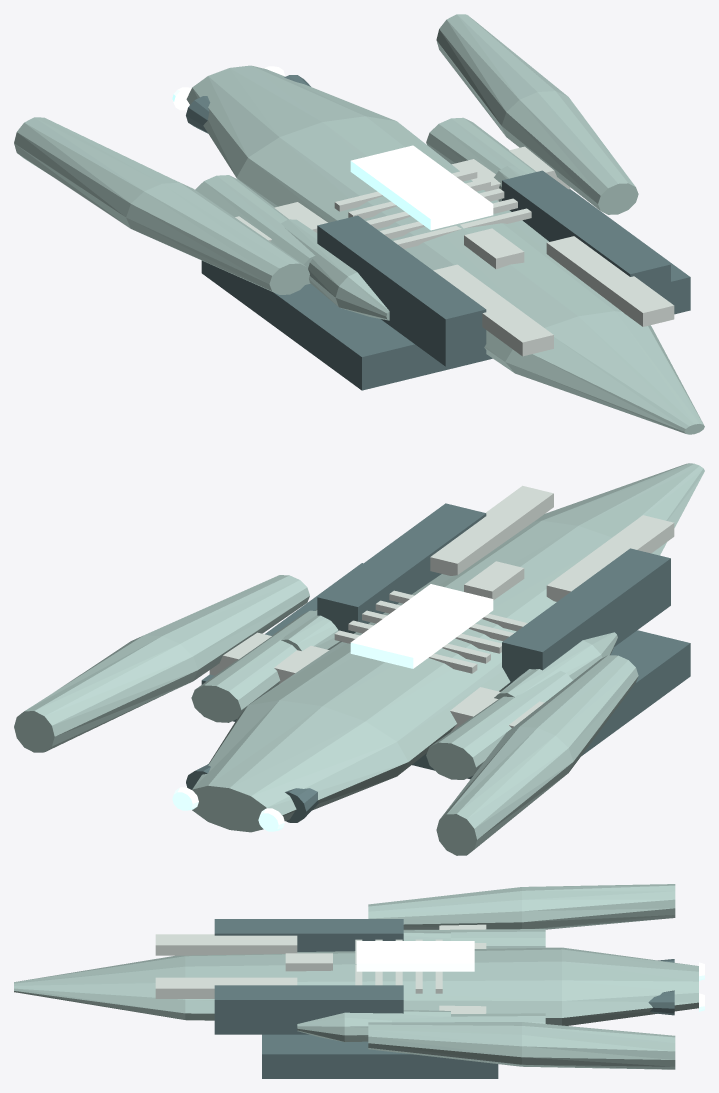
3 views of the same model, one above another, from view 1: azimuth 30°, elevation 25°; view 2: azimuth 150°, elevation 25°; view 3: azimuth 270°, elevation 25° (orthographic). The views are drawn at different scales.
Size of the model in its own units: 6.33 by 1.2 by 11.12.
